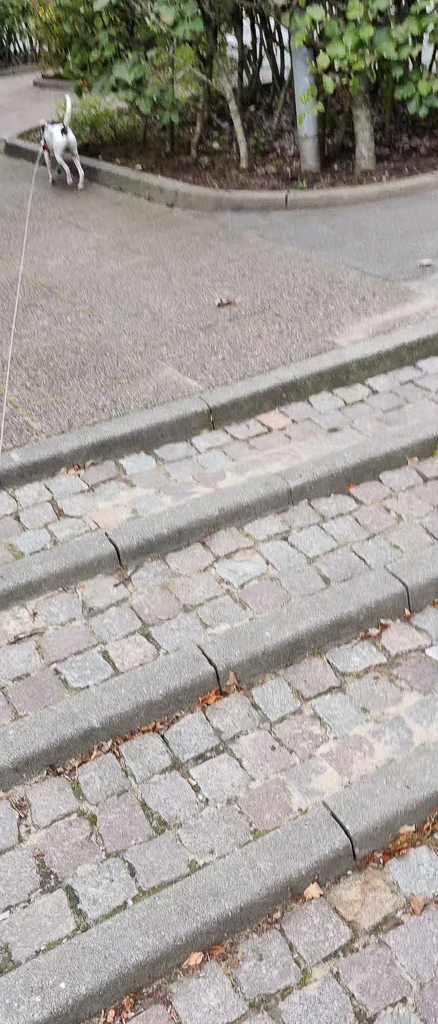Dog: (27, 87, 100, 193)
